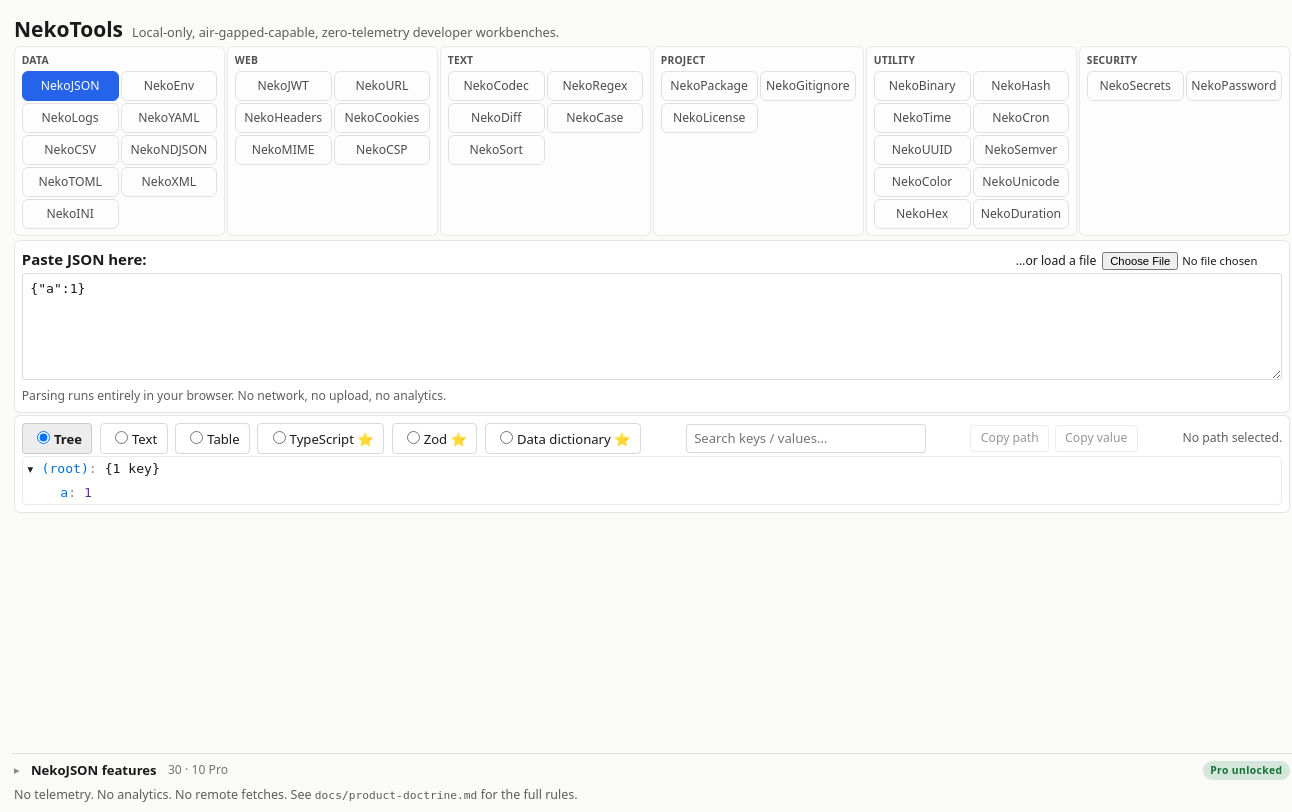
App integration › Wave 2: the NekoYAML tab toggles panel visibility (all panels stay mounted)
Click the button with test id "tool-tab-yaml".
click(169, 118)  # box [120,103,217,133]
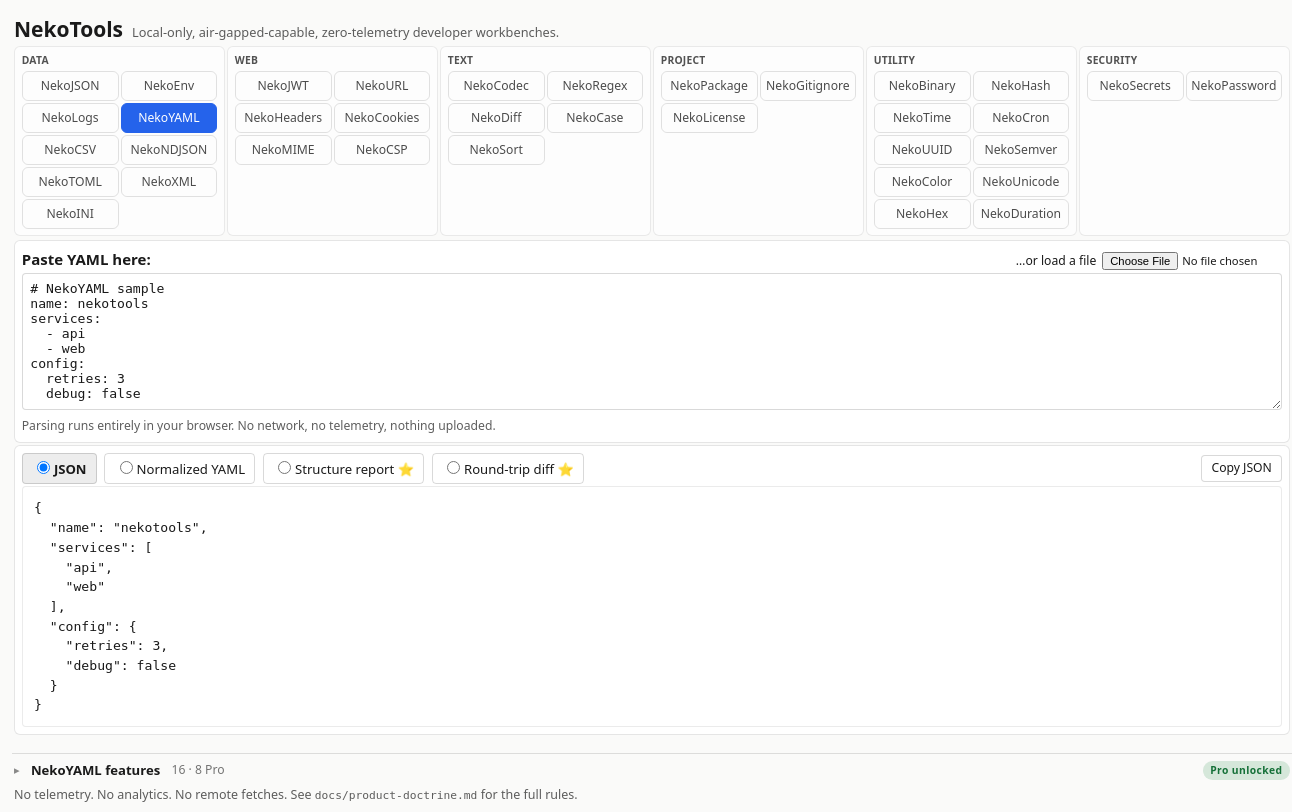
Expected: the element with test id "tool-panel-yaml" is shown
Expected: the element with test id "tool-panel-json" is gone
